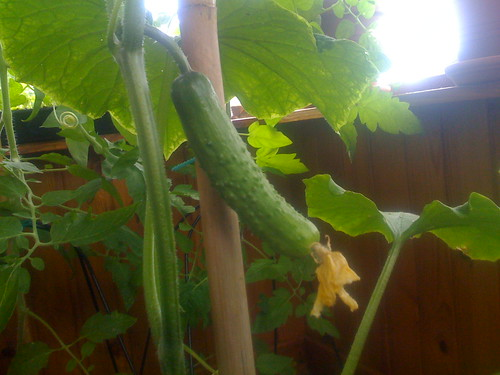cucumber: (172, 72, 362, 318)
